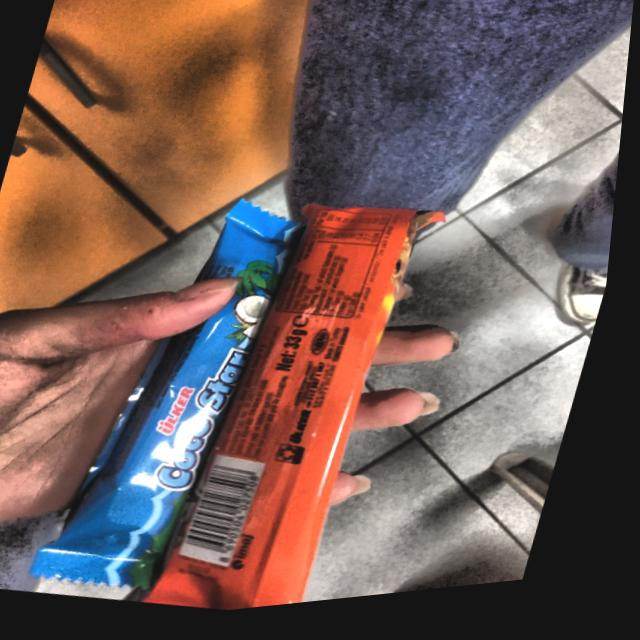Plastic: (185, 168, 492, 621), (55, 169, 328, 626)
